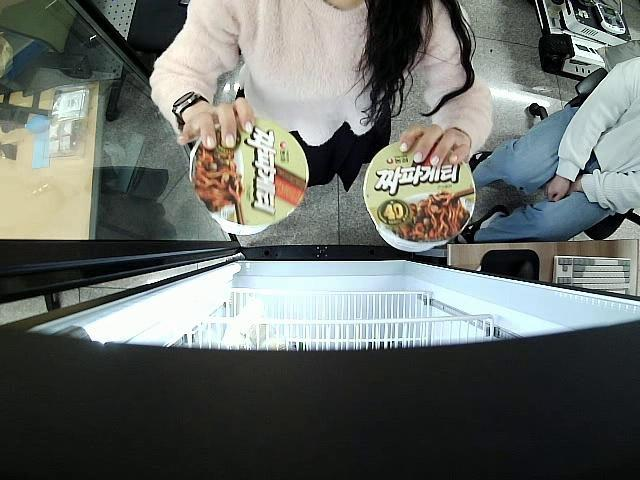03_chapagetti_L: (190, 117, 310, 236), (364, 140, 478, 250)
